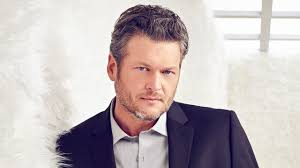white_male: (102, 40, 184, 109)
